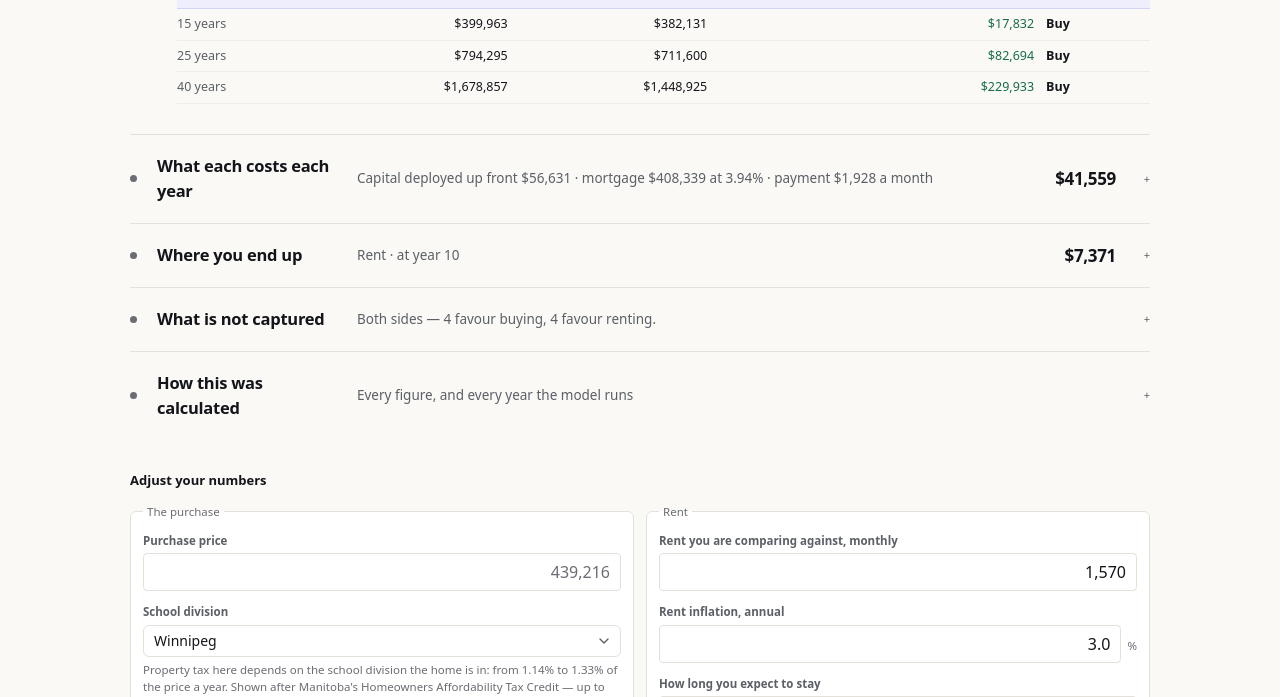
Test case: Rent vs buy — showing the work › derives the headline at the reader's own horizon, not an abstract year
(page scrolled)
Click the button "How this was calculated". click: (210,382)
box: [130,352,1150,440]
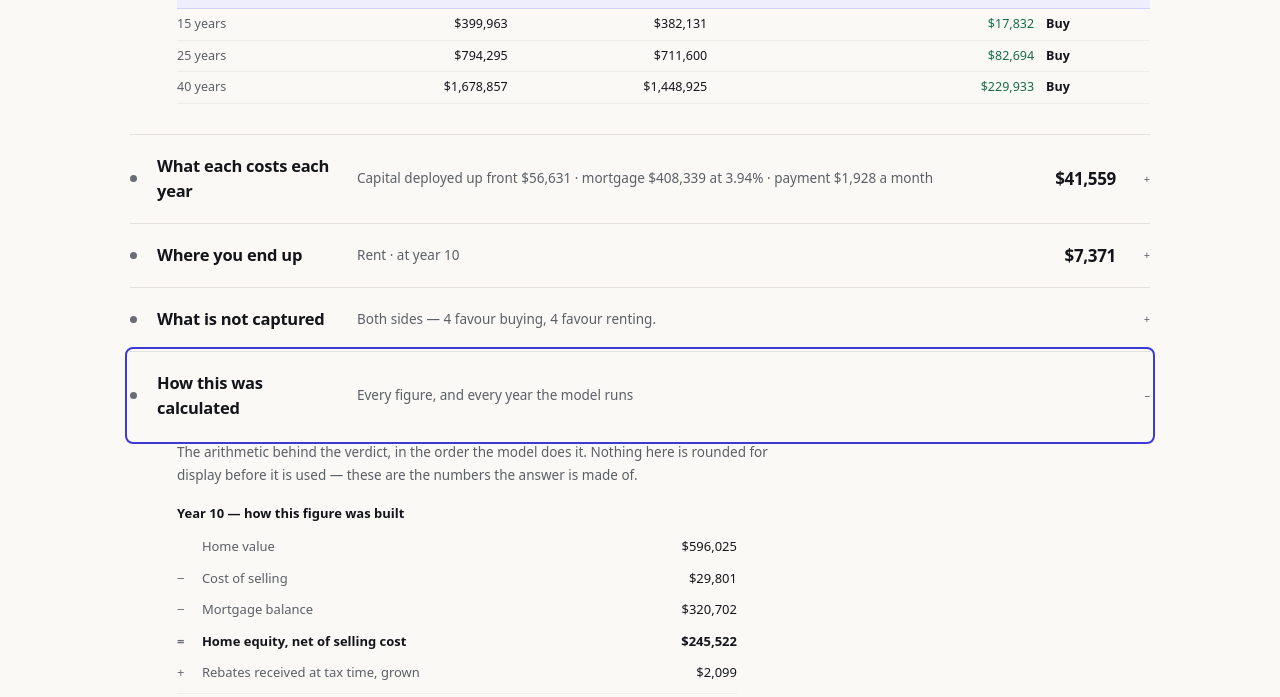
Now the text "Year 10 — how this figure was built" is shown, box [177,504,404,522]
